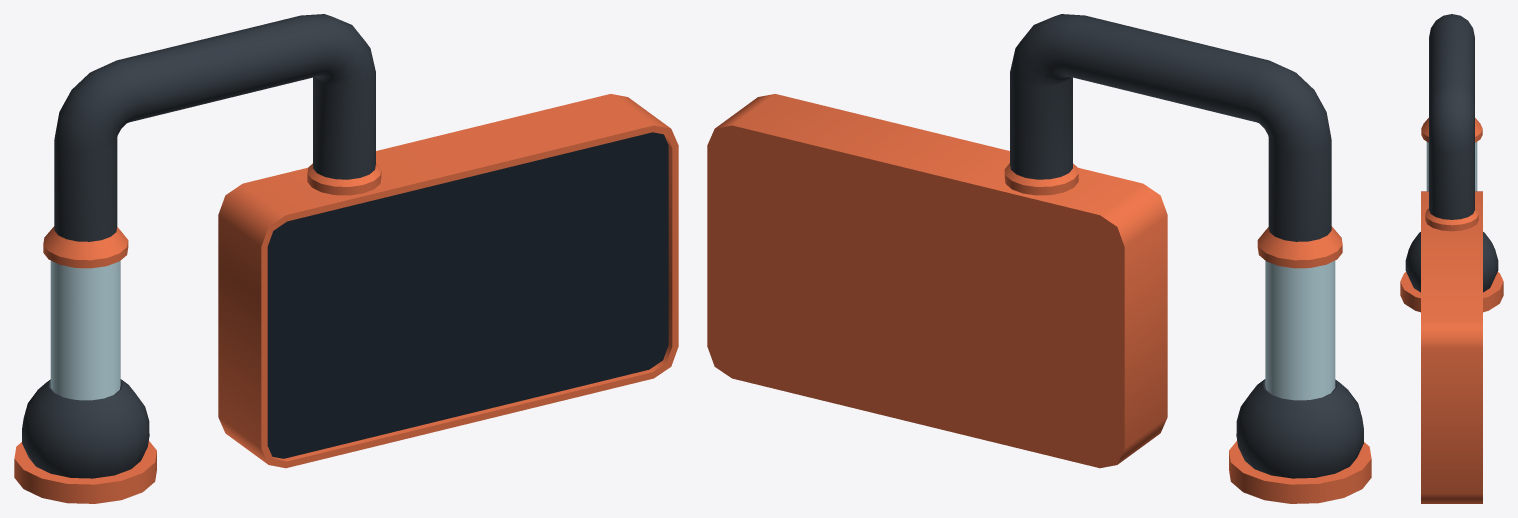
Rendered from PipeTitantronBingo.fbx.
The picture shows the model from 3 angles, left to right: view 1: azimuth 30°, elevation 25°; view 2: azimuth 150°, elevation 25°; view 3: azimuth 270°, elevation 25°; orthographic projection. The views are drawn at different scales.
Parts seen in each view (by area): view 1: Monitor, Pipe; view 2: Monitor, Pipe; view 3: Monitor, Pipe.
Part boxes in pixels (x1,y1,x2,y2): Monitor: (218,94,678,468); Pipe: (14,14,381,503); Monitor: (707,94,1167,468); Pipe: (1004,14,1371,503); Monitor: (1421,191,1482,503); Pipe: (1400,14,1503,312).
Bounding box in the file's own units: 470 × 301 × 92.35.
1 material, 1 textured.
